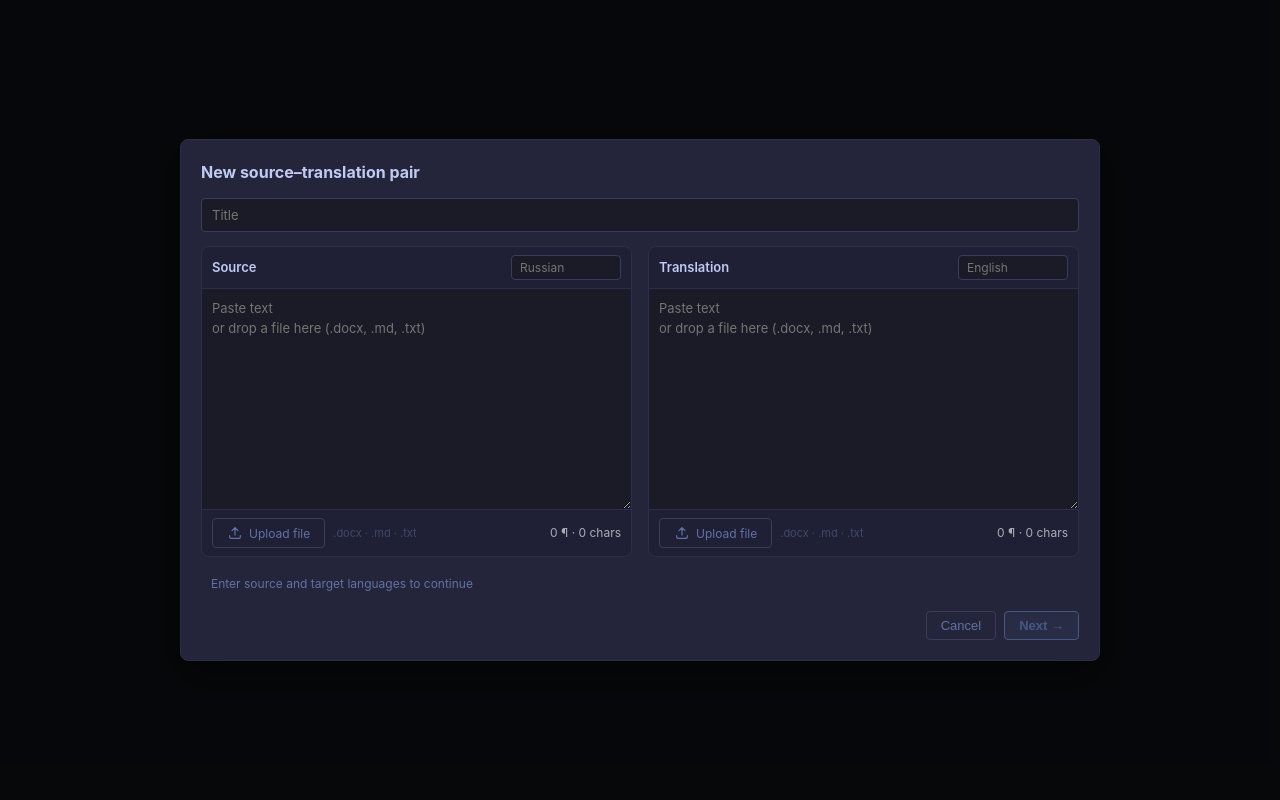
Test: UploadModal AI-translate mode (S4 §3.2) › shows the "Translate with AI" CTA only once source has text and translation is empty
Type "Текст" into the text box with test id "panel-source-textarea". click: {"x": 416, "y": 399}
box: x1=202 y1=289 x2=631 y2=509
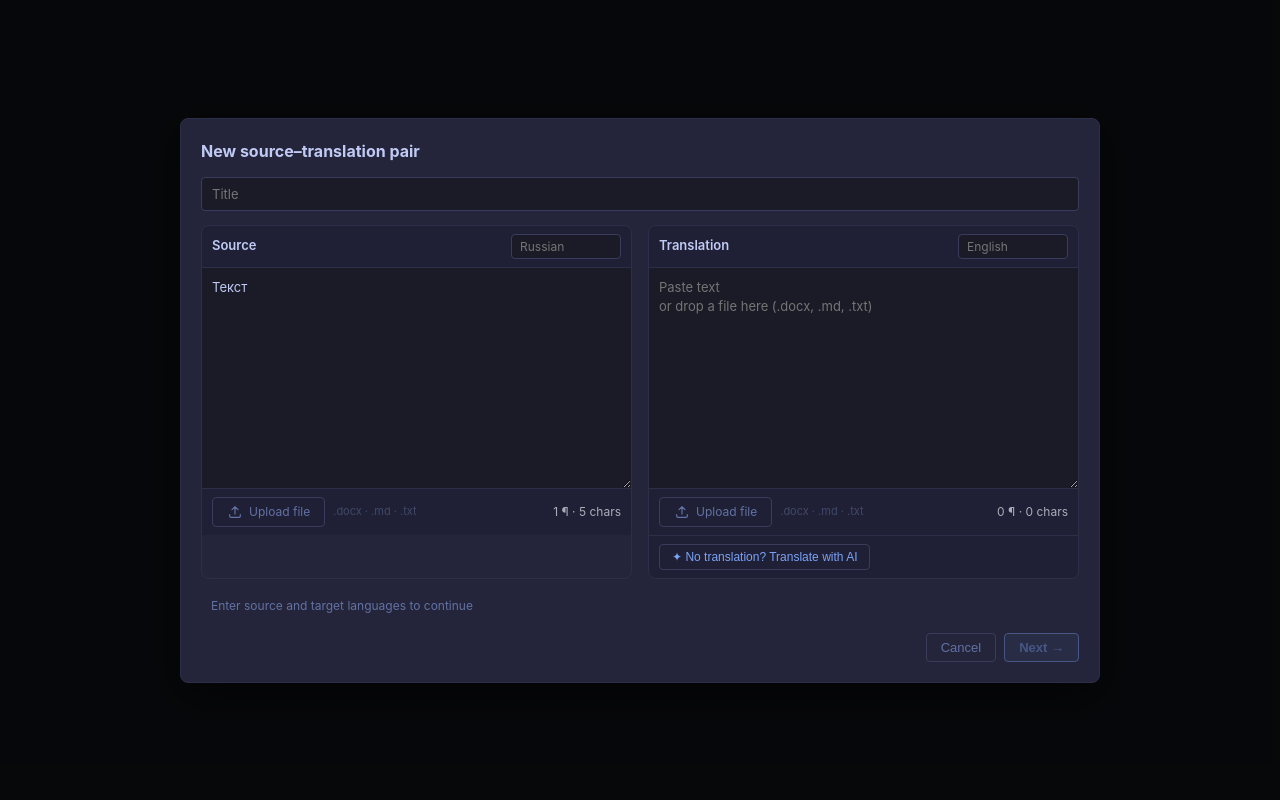
Check: the button with test id "ai-translate-cta" is shown, box x1=659 y1=544 x2=870 y2=570
Type "Text" into the text box with test id "panel-target-textarea". click: {"x": 864, "y": 378}
box: x1=649 y1=268 x2=1078 y2=488
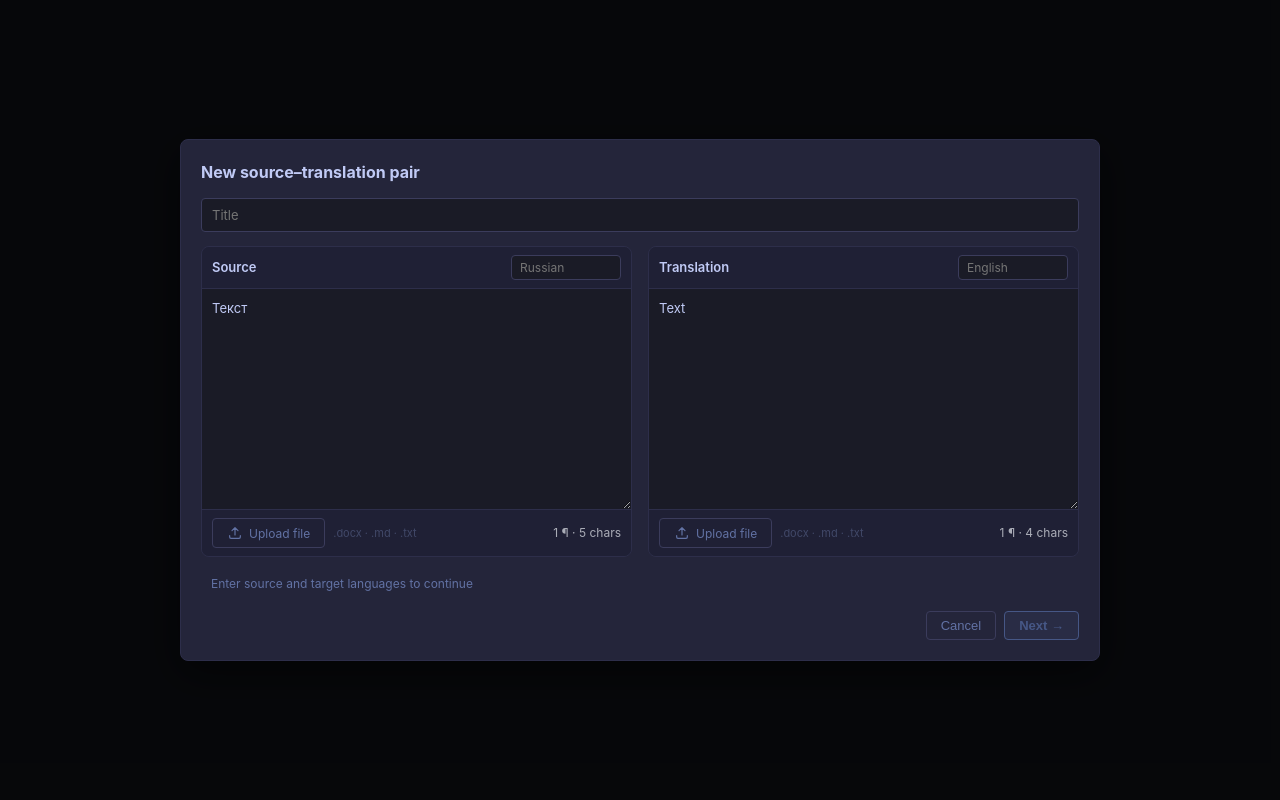
Check: the button with test id "ai-translate-cta" is gone
